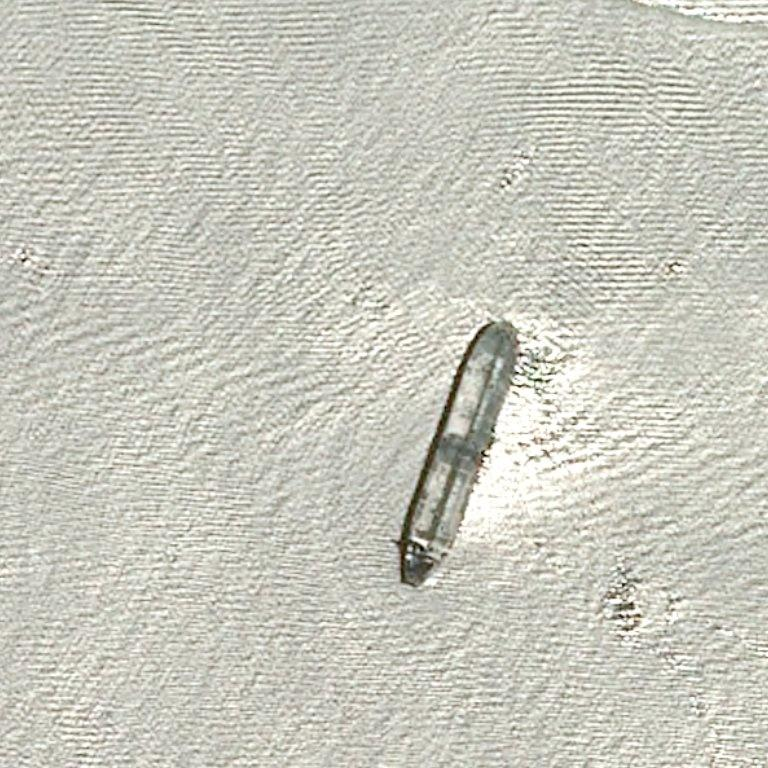ship: (432, 314, 490, 594), (499, 320, 515, 332), (416, 578, 424, 591), (383, 572, 391, 582)
